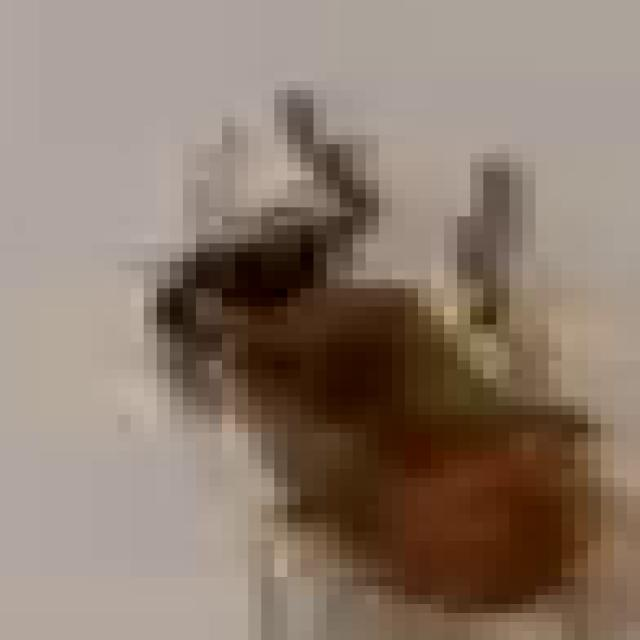honeybee: (133, 111, 607, 573)
